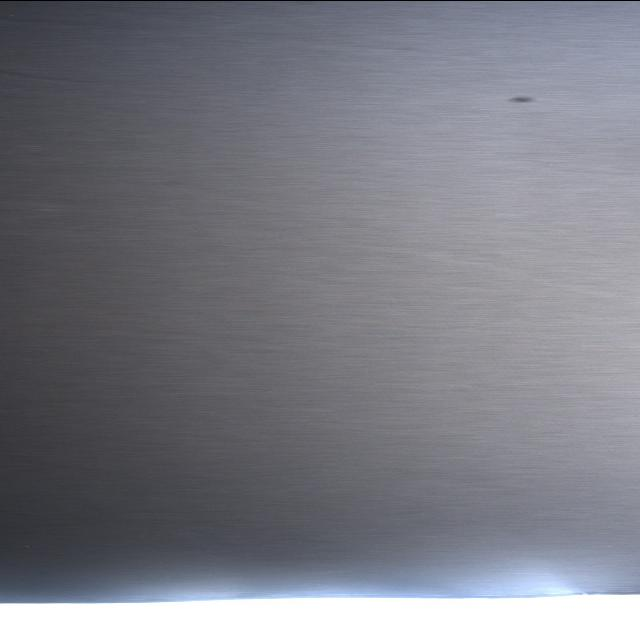crease: (0, 4, 403, 50), (313, 238, 617, 292), (0, 67, 113, 82)
